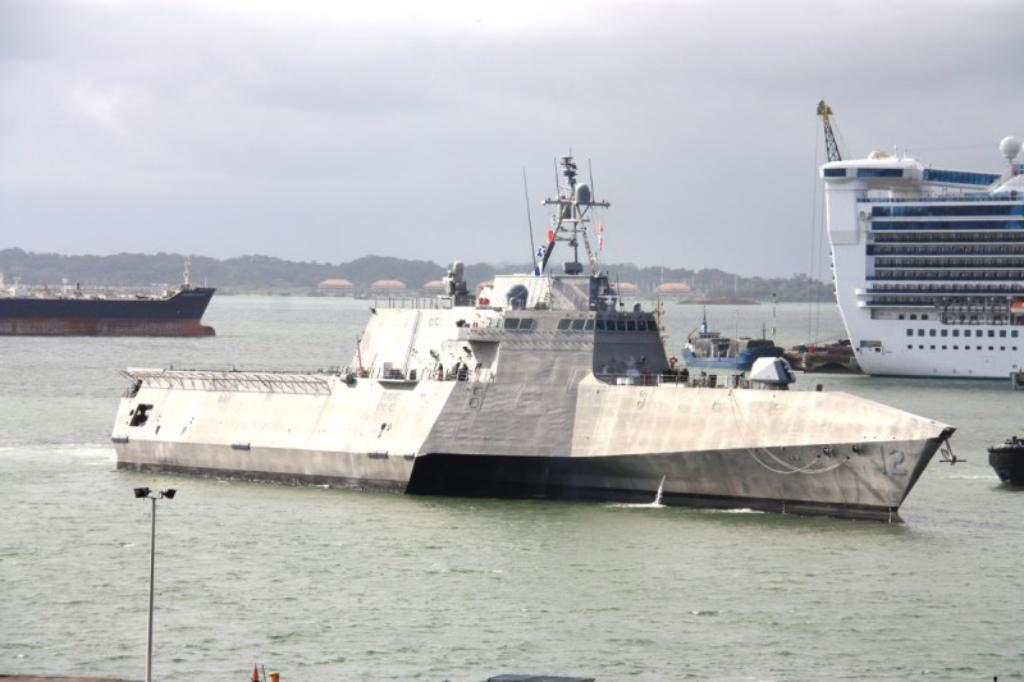Warship: (106, 141, 956, 521)
